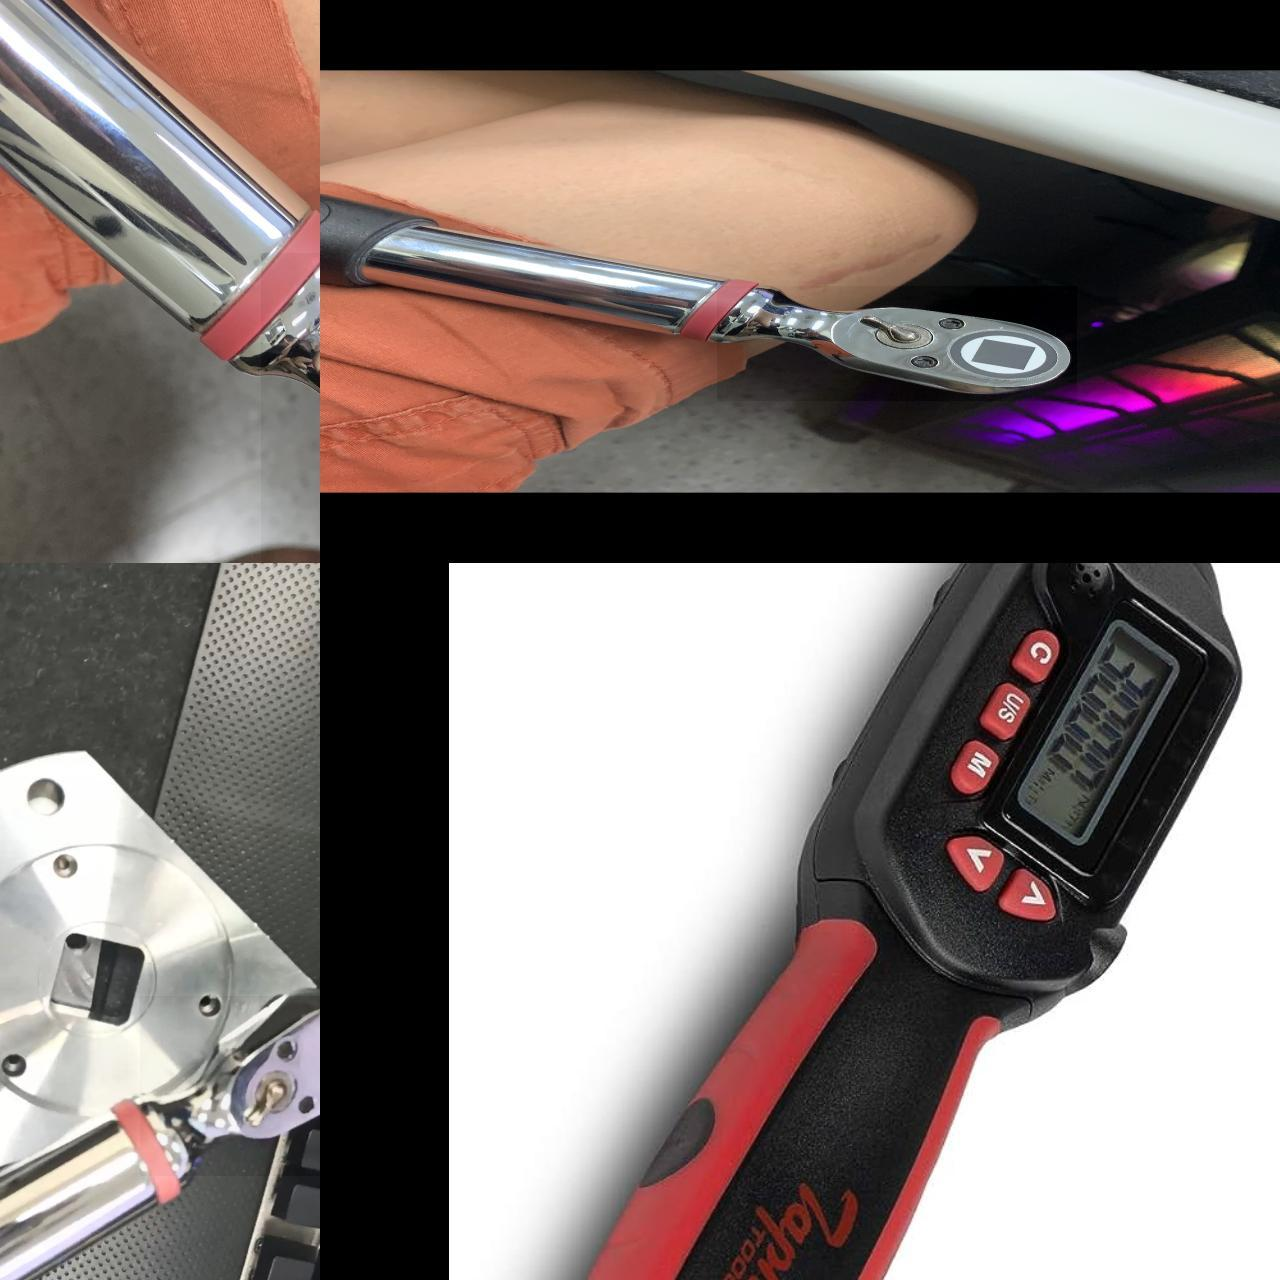Tool: (716, 286, 1076, 401), (139, 996, 320, 1176)
